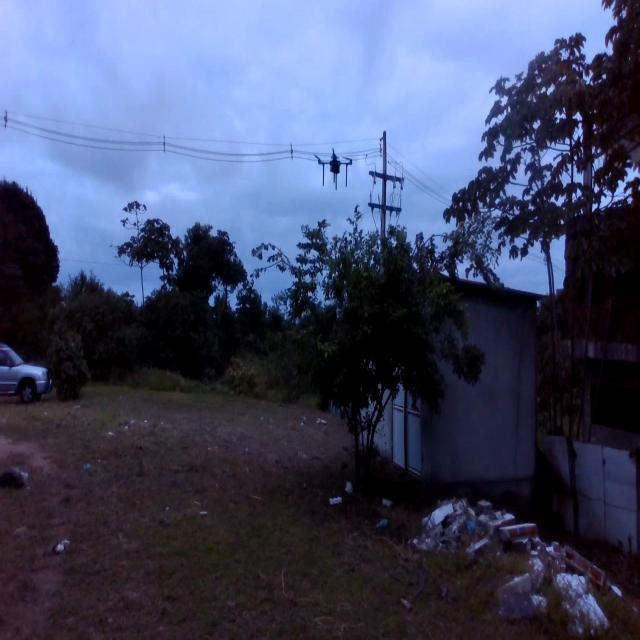-uav-: (309, 141, 366, 206)
